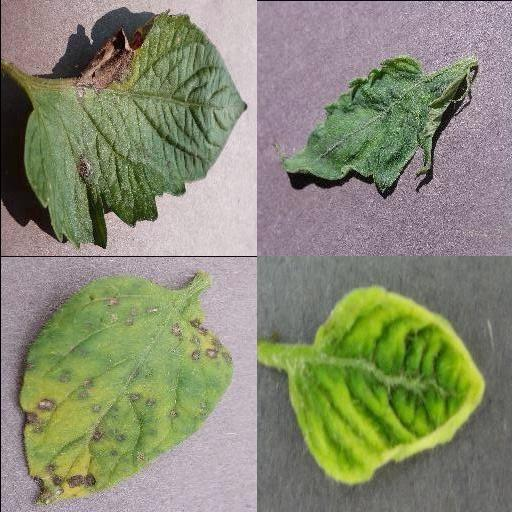Late Blight: (21, 11, 249, 249)
Mosaic Virus: (280, 55, 456, 193)
Septoria: (18, 275, 233, 507)
Yellow Leaf Curl Virus: (287, 287, 485, 486)
